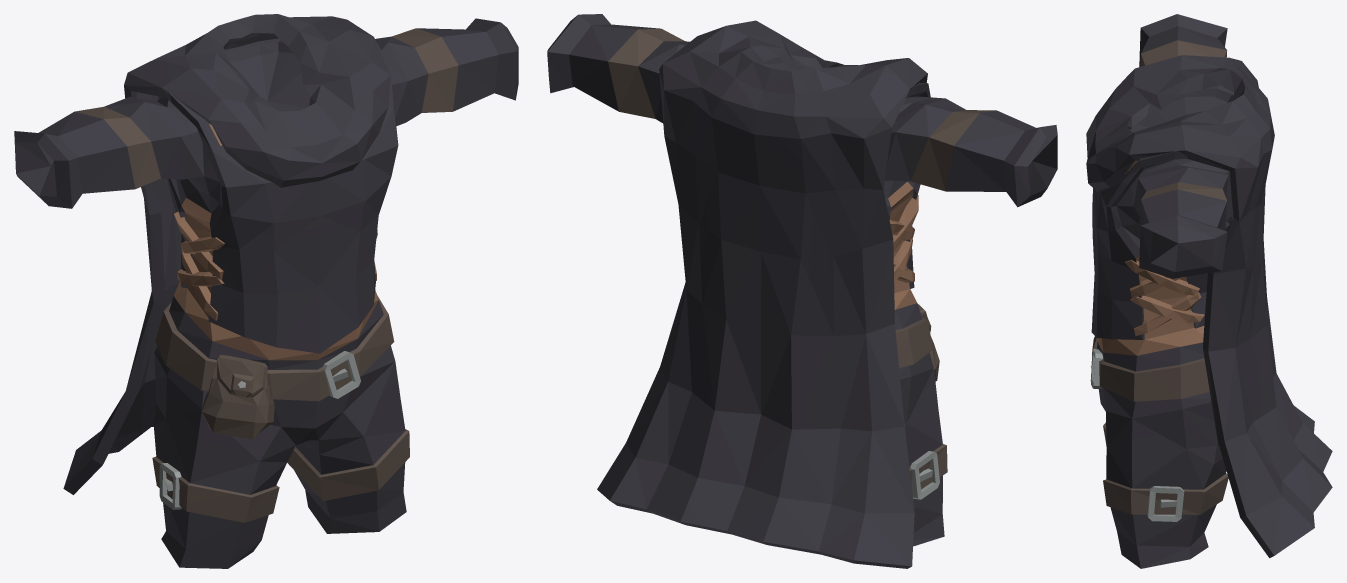
The model's file is armorShadowDisplay.fbx.
3 views of the same model, side by side, from view 1: azimuth 30°, elevation 25°; view 2: azimuth 150°, elevation 25°; view 3: azimuth 270°, elevation 25° (orthographic). The views are drawn at different scales.
Parts seen in each view (by area): view 1: armorShadowDisplay; view 2: armorShadowDisplay; view 3: armorShadowDisplay.
Part boxes in pixels (box(x1,y1,x2,y2)): armorShadowDisplay: box(14, 14, 518, 568); armorShadowDisplay: box(547, 14, 1057, 568); armorShadowDisplay: box(1086, 14, 1332, 568).
Size of the model in its own units: 1.79 by 1.75 by 0.889.
Materials: 1 (1 with a texture image).
